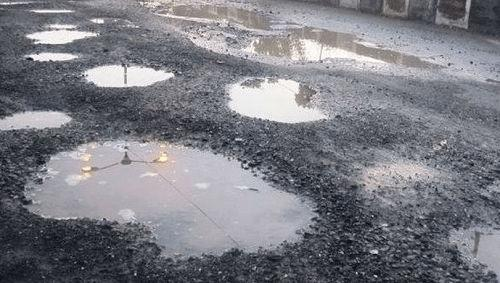Pothole: (23, 142, 335, 257), (122, 0, 469, 82), (4, 0, 182, 97), (190, 74, 338, 139), (338, 139, 472, 200), (409, 194, 499, 282), (0, 94, 92, 147)
